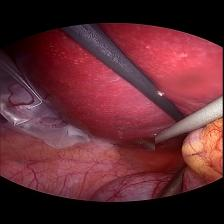Irrigator: (134, 136, 155, 150)
Specimen Bag: (0, 48, 85, 150)
